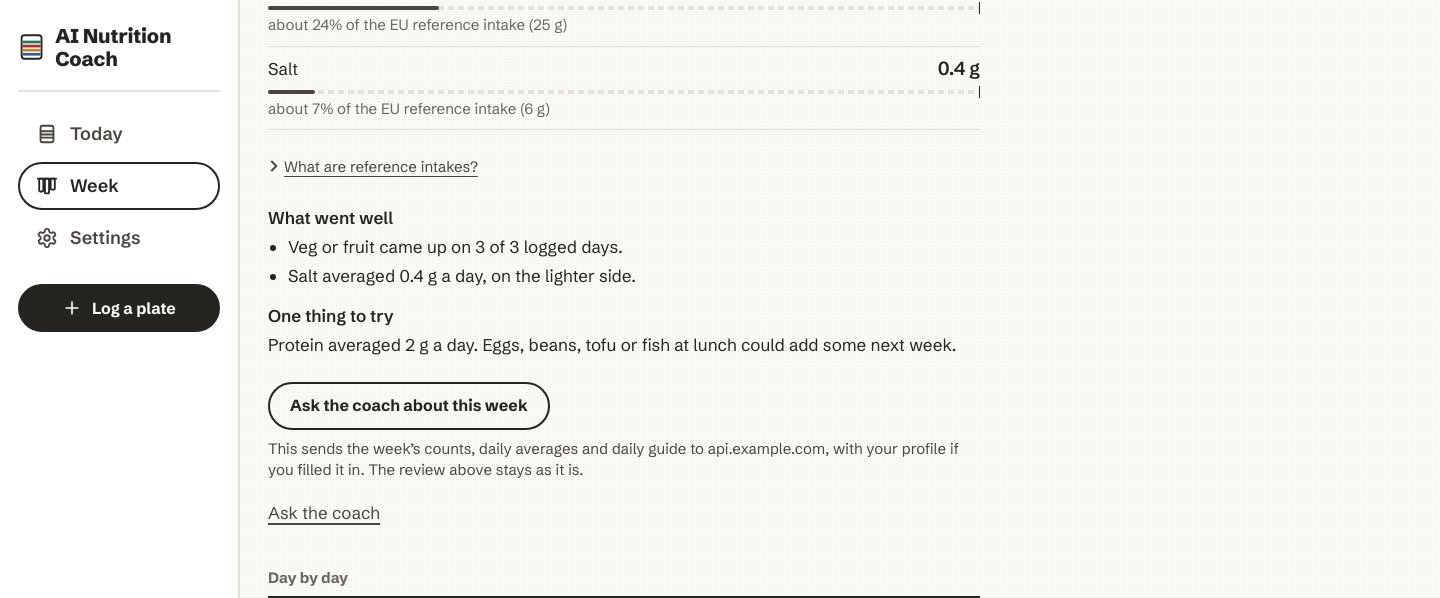
Test: WeekAiSummary › a paragraph that fails the checks is not shown
The image size is (1440, 598).
(page scrolled)
Click the button "Ask the coach about this week".
click(409, 406)  # box x1=268 y1=382 x2=550 y2=430
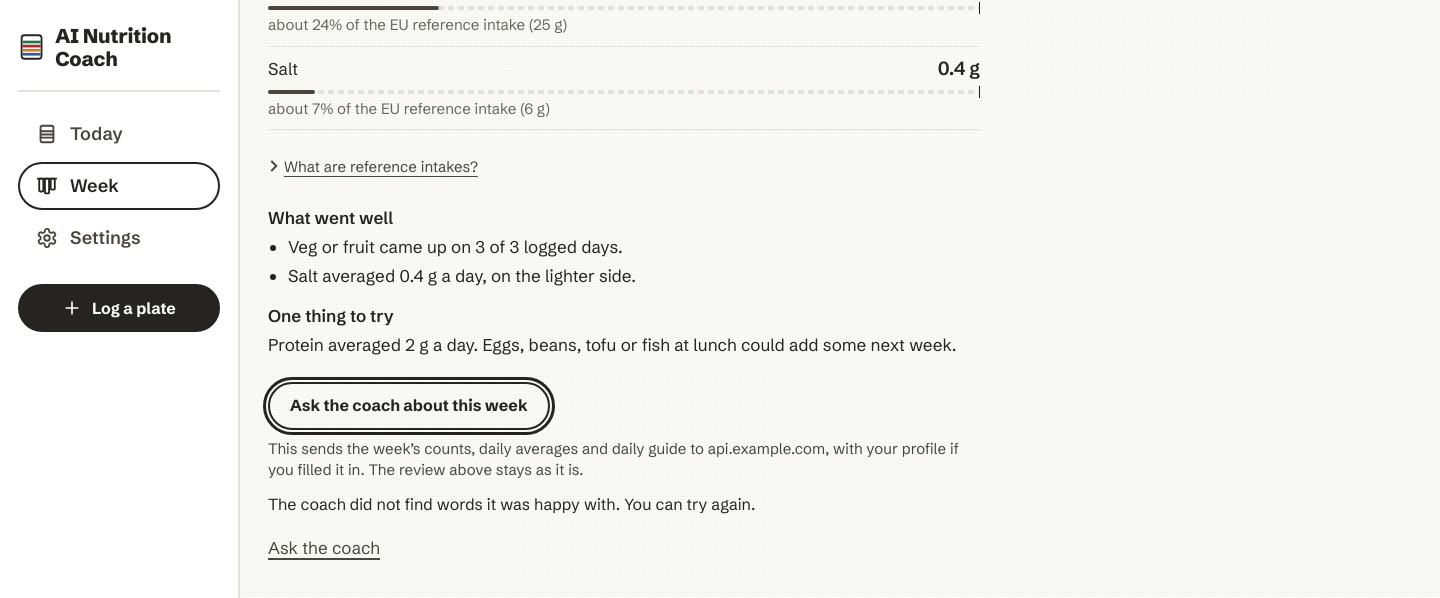
Check: the text "did not find words it was happy with" is shown, box x1=268 y1=494 x2=756 y2=514
